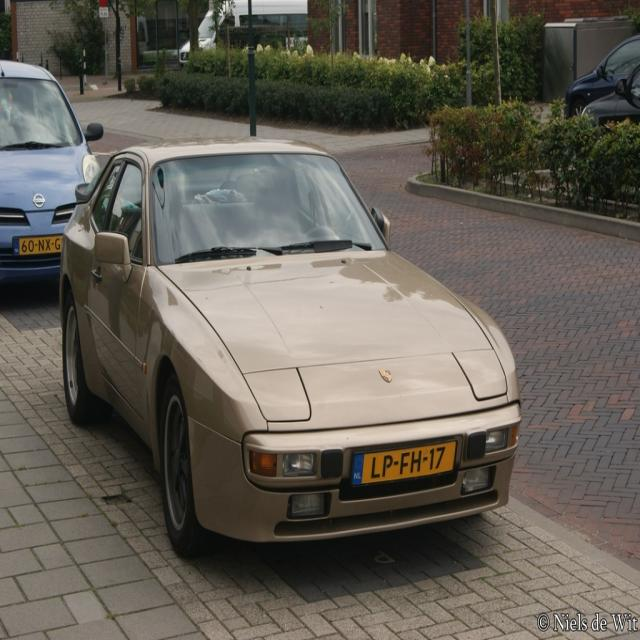car: (55, 132, 523, 548)
